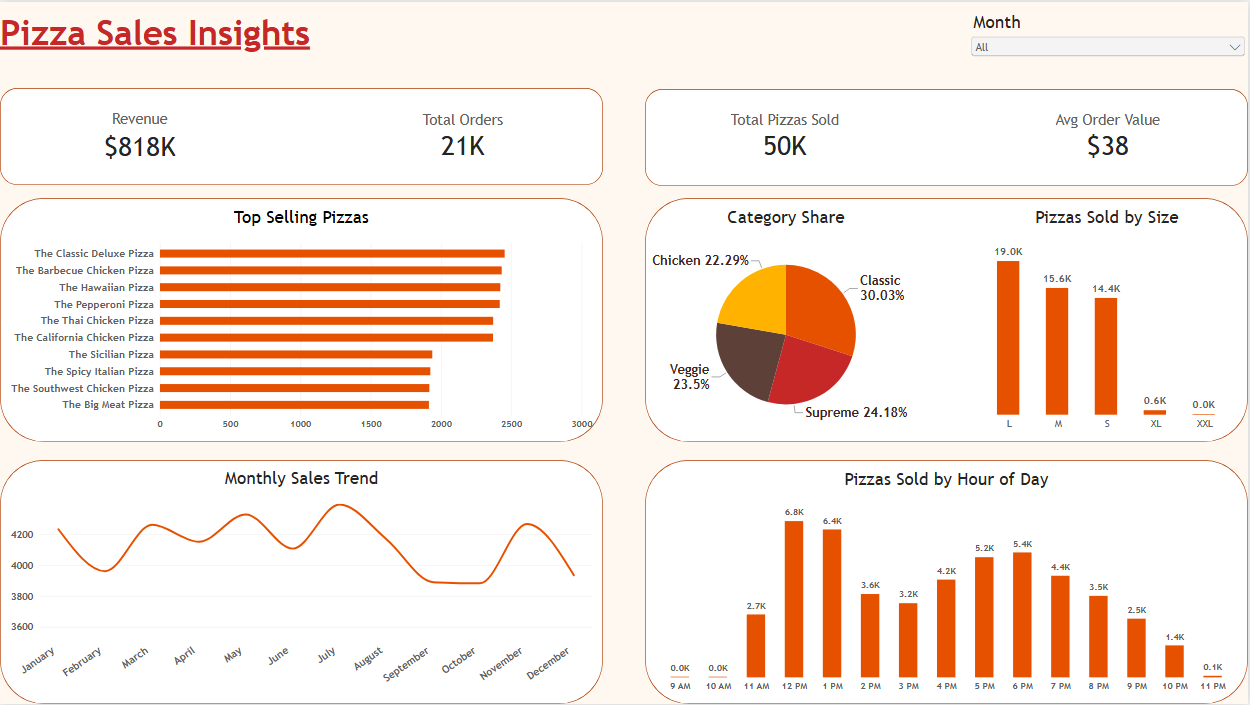

Layout of this report page (visuals, bound fields, positions):
{"tool":"powerbi","page":{"name":"Page 2","canvas":[1920,1080],"ordinal":0},"visuals":[{"type":"shape","box":[0,132.3,927.7,149.2],"z":0,"group":"g1"},{"type":"group","id":"g1","title":"Background","box":[0,132.3,1920,947.7],"z":0},{"type":"cardVisual","fields":{"Data":["_Measures.Revenue"]},"box":[0,132.3,430.8,149.2],"z":1000},{"type":"shape","box":[992.3,133.8,927.7,149.2],"z":1000,"group":"g1"},{"type":"cardVisual","fields":{"Data":["_Measures.Total Orders"]},"box":[496.4,132.3,430.8,149.2],"z":2000},{"type":"shape","box":[0,301.5,927.7,375.4],"z":2000,"group":"g1"},{"type":"cardVisual","fields":{"Data":["_Measures.Total Pizzas Sold"]},"box":[992.8,132.3,430.8,149.2],"z":3000},{"type":"shape","box":[992.3,301.5,927.7,375.4],"z":3000,"group":"g1"},{"type":"cardVisual","fields":{"Data":["_Measures.Avg Order Value"]},"box":[1489.2,132.3,430.8,149.2],"z":4000},{"type":"shape","box":[0,704.6,927.7,375.4],"z":4000,"group":"g1"},{"type":"columnChart","title":"Pizzas Sold by Size","fields":{"Category":["pizzas.size"],"Y":["Sum(order_details.quantity)"]},"box":[1487.7,301.5,430.8,375.4],"z":5000},{"type":"shape","box":[992.3,704.6,927.7,375.4],"z":5000,"group":"g1"},{"type":"slicer","fields":{"Values":["orders.date.Variation.Date Hierarchy.Month"]},"box":[1489.2,15.4,430.8,89.2],"z":6000},{"type":"lineChart","title":"Monthly Sales Trend","fields":{"Category":["orders.date.Variation.Date Hierarchy.Month"],"Y":["Sum(order_details.quantity)"]},"box":[0,703.1,927.7,375.4],"z":7000},{"type":"pieChart","title":"Category Share","fields":{"Category":["pizza_types.category"],"Y":["Sum(order_details.quantity)"]},"box":[993.8,301.5,430.8,375.4],"z":8000},{"type":"barChart","title":"Top Selling Pizzas","fields":{"Category":["pizza_types.name"],"Y":["Sum(order_details.quantity)"]},"box":[0,301.5,927.7,375.4],"z":9000},{"type":"columnChart","title":"Pizzas Sold by Hour of Day","fields":{"Category":["orders.Hour Label"],"Y":["Sum(order_details.quantity)"]},"box":[992.3,704.6,927.7,375.4],"z":10000},{"type":"textbox","box":[0,15.4,486.2,89.2],"z":11000}]}

Visuals, with their boxes in screenshot pixels (x1, y1, x2, y2), scaled from the page's 1920x1080 canvas onto the 1250x705 screenshot:
shape: detection(0, 86, 604, 184)
"Background" group: detection(0, 86, 1249, 704)
cardVisual - _Measures.Revenue: detection(0, 86, 280, 184)
shape: detection(646, 87, 1249, 185)
cardVisual - _Measures.Total Orders: detection(323, 86, 604, 184)
shape: detection(0, 197, 604, 442)
cardVisual - _Measures.Total Pizzas Sold: detection(646, 86, 927, 184)
shape: detection(646, 197, 1249, 442)
cardVisual - _Measures.Avg Order Value: detection(970, 86, 1249, 184)
shape: detection(0, 460, 604, 704)
"Pizzas Sold by Size" columnChart: detection(969, 197, 1249, 442)
shape: detection(646, 460, 1249, 704)
slicer - orders.date.Variation.Date Hierarchy.Month: detection(970, 10, 1249, 68)
"Monthly Sales Trend" lineChart: detection(0, 459, 604, 704)
"Category Share" pieChart: detection(647, 197, 927, 442)
"Top Selling Pizzas" barChart: detection(0, 197, 604, 442)
"Pizzas Sold by Hour of Day" columnChart: detection(646, 460, 1249, 704)
textbox: detection(0, 10, 317, 68)
